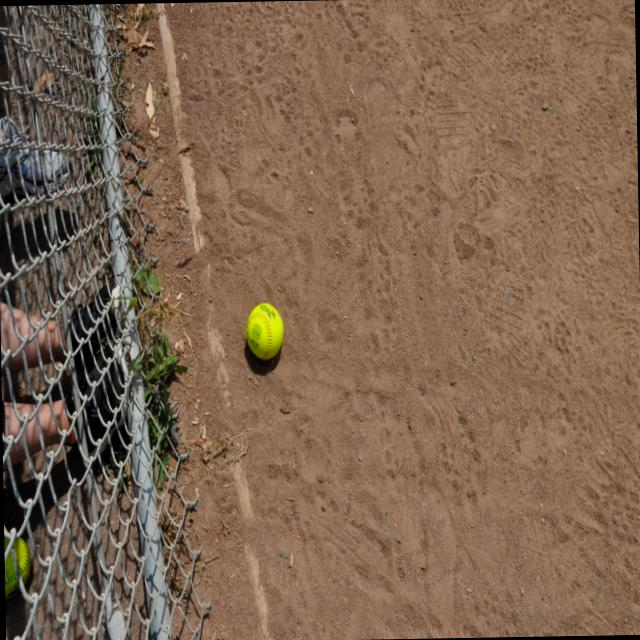Tennis Ball: (246, 302, 284, 359)
